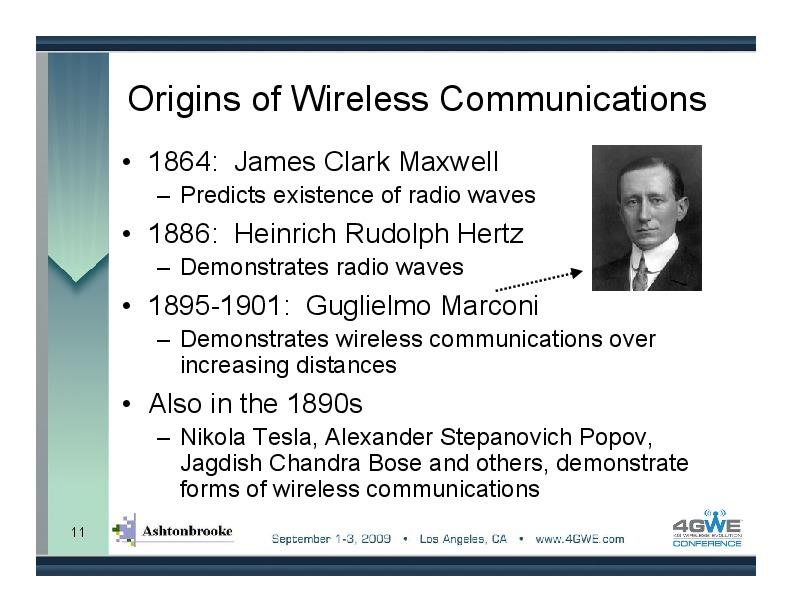paragraph: (115, 141, 741, 507)
title: (124, 68, 721, 129)
